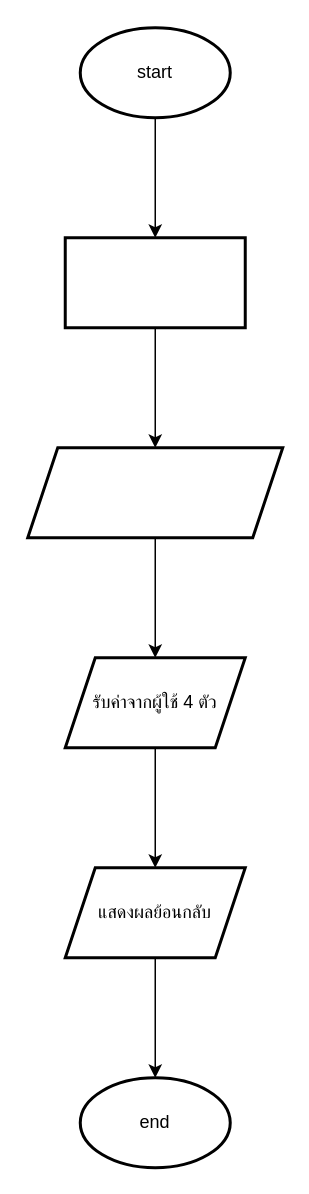
Some shapes in this 309 by 1194 pixel diagram are drawn without their labels. Each missing label, with the box of its shape:
สร้างตัวแปร A, B, C, D: (63, 236, 246, 328)
แสดงคำว่า Test Case: (26, 446, 284, 538)
